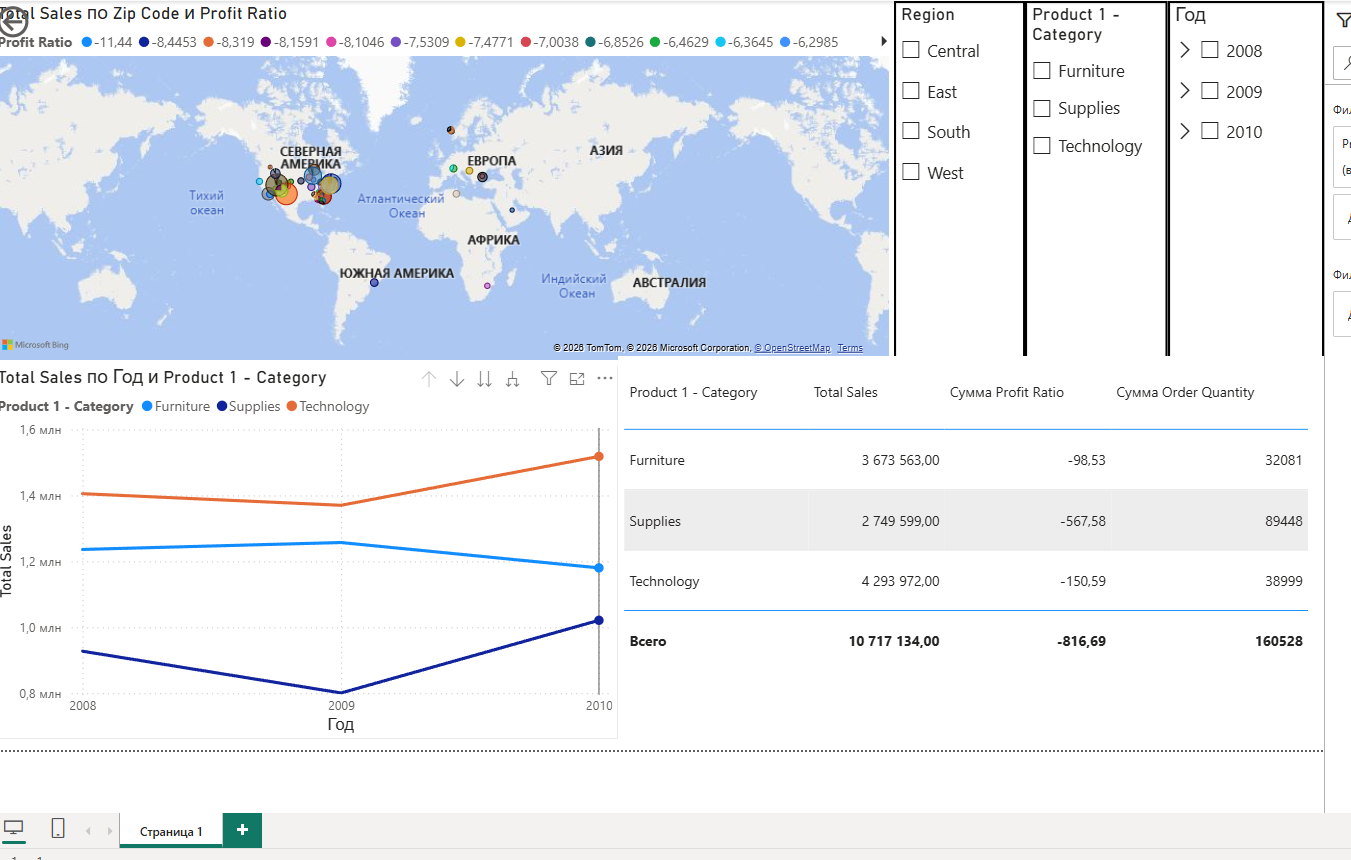

What the dashboard file says about the page in this screenshot:
{"tool":"powerbi","page":{"name":"Страница 1","canvas":[1280,720],"ordinal":0},"visuals":[{"type":"lineChart","fields":{"Category":["Лист1.Order Date.Изменение.Иерархия дат.Год","Лист1.Order Date.Изменение.Иерархия дат.Квартал","Лист1.Order Date.Изменение.Иерархия дат.Месяц","Лист1.Order Date.Изменение.Иерархия дат.День"],"Y":["Лист1.Total Sales"],"Series":["Лист1.Product 1 - Category"]},"box":[0,350,601.2,358.8],"z":0},{"type":"map","fields":{"Category":["Лист1.Zip Code"],"Size":["Лист1.Total Sales"],"Series":["Лист1.Profit Ratio"]},"box":[0,0,867.1,350],"z":1000},{"type":"actionButton","box":[0,0,100,40],"z":2000},{"type":"listSlicer","fields":{"Values":["Лист1.Region"]},"box":[867.1,0,125.7,350],"z":3000},{"type":"listSlicer","fields":{"Values":["Лист1.Product 1 - Category"]},"box":[992.9,0,137.1,350],"z":4000},{"type":"listSlicer","fields":{"Values":["Лист1.Order Date.Изменение.Иерархия дат.Год","Лист1.Order Date.Изменение.Иерархия дат.Месяц"]},"box":[1130,0,150,350],"z":5000},{"type":"tableEx","fields":{"Values":["Лист1.Product 1 - Category","Лист1.Total Sales","Sum(Лист1.Profit Ratio)","Sum(Лист1.Order Quantity)"]},"box":[601.2,341.2,678.8,378.8],"z":5001}]}

Visuals, with their boxes in screenshot pixels (x1, y1, x2, y2):
lineChart - Лист1.Order Date.Изменение.Иерархия дат.Год x Лист1.Order Date.Изменение.Иерархия дат.Квартал: <bbox>0, 364, 615, 738</bbox>
map - Лист1.Zip Code x Лист1.Total Sales: <bbox>0, 0, 892, 364</bbox>
actionButton: <bbox>0, 0, 94, 42</bbox>
listSlicer - Лист1.Region: <bbox>892, 0, 1023, 364</bbox>
listSlicer - Лист1.Product 1 - Category: <bbox>1023, 0, 1166, 364</bbox>
listSlicer - Лист1.Order Date.Изменение.Иерархия дат.Год x Лист1.Order Date.Изменение.Иерархия дат.Месяц: <bbox>1166, 0, 1322, 364</bbox>
tableEx - Лист1.Product 1 - Category x Лист1.Total Sales: <bbox>615, 355, 1322, 749</bbox>
